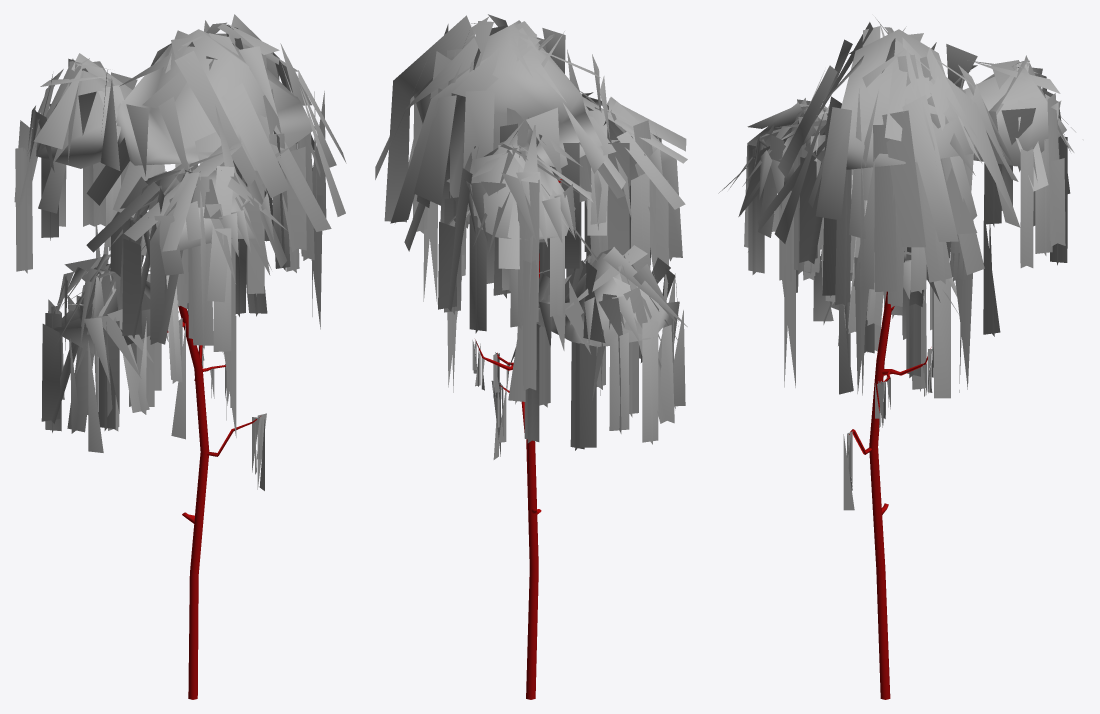
Rendered from env_forest_birch03_lod1.fbx.
3 renders of one model, left to right at view 1: azimuth 30°, elevation 25°; view 2: azimuth 150°, elevation 25°; view 3: azimuth 270°, elevation 25°, orthographic. The views are drawn at different scales.
Parts seen in each view (by area): view 1: env_forest_birch03_lod1__submesh0; view 2: env_forest_birch03_lod1__submesh0; view 3: env_forest_birch03_lod1__submesh0.
Part boxes in pixels (x1,y1,x2,y2): env_forest_birch03_lod1__submesh0: (14, 14, 346, 699); env_forest_birch03_lod1__submesh0: (375, 14, 687, 699); env_forest_birch03_lod1__submesh0: (718, 17, 1075, 699).
Bounding box in the file's own units: 70.77 × 160 × 78.97.
